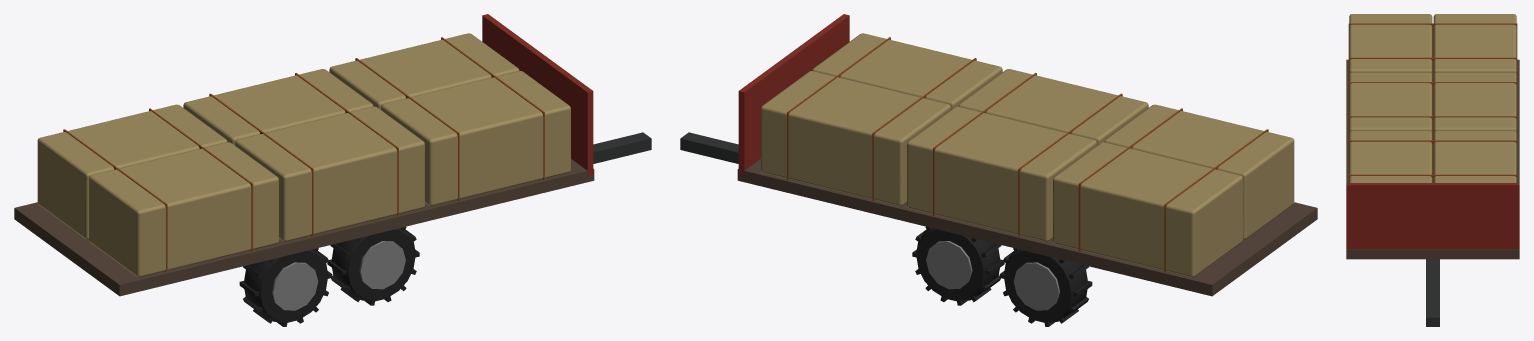
The model's file is SM_Prop_farm_trailer_1.glb.
The picture shows the model from 3 angles, left to right: view 1: azimuth 30°, elevation 25°; view 2: azimuth 150°, elevation 25°; view 3: azimuth 270°, elevation 25°; orthographic projection. The views are drawn at different scales.
Visible parts, largest first — view 1: SM_Prop_farm_trailer_1; view 2: SM_Prop_farm_trailer_1; view 3: SM_Prop_farm_trailer_1.
Part boxes in pixels (x1=…): SM_Prop_farm_trailer_1: x1=14, y1=14, x2=651, y2=326; SM_Prop_farm_trailer_1: x1=680, y1=14, x2=1317, y2=326; SM_Prop_farm_trailer_1: x1=1346, y1=14, x2=1519, y2=326.
Bounding box in the file's own units: 7.95 × 2.17 × 2.5.
